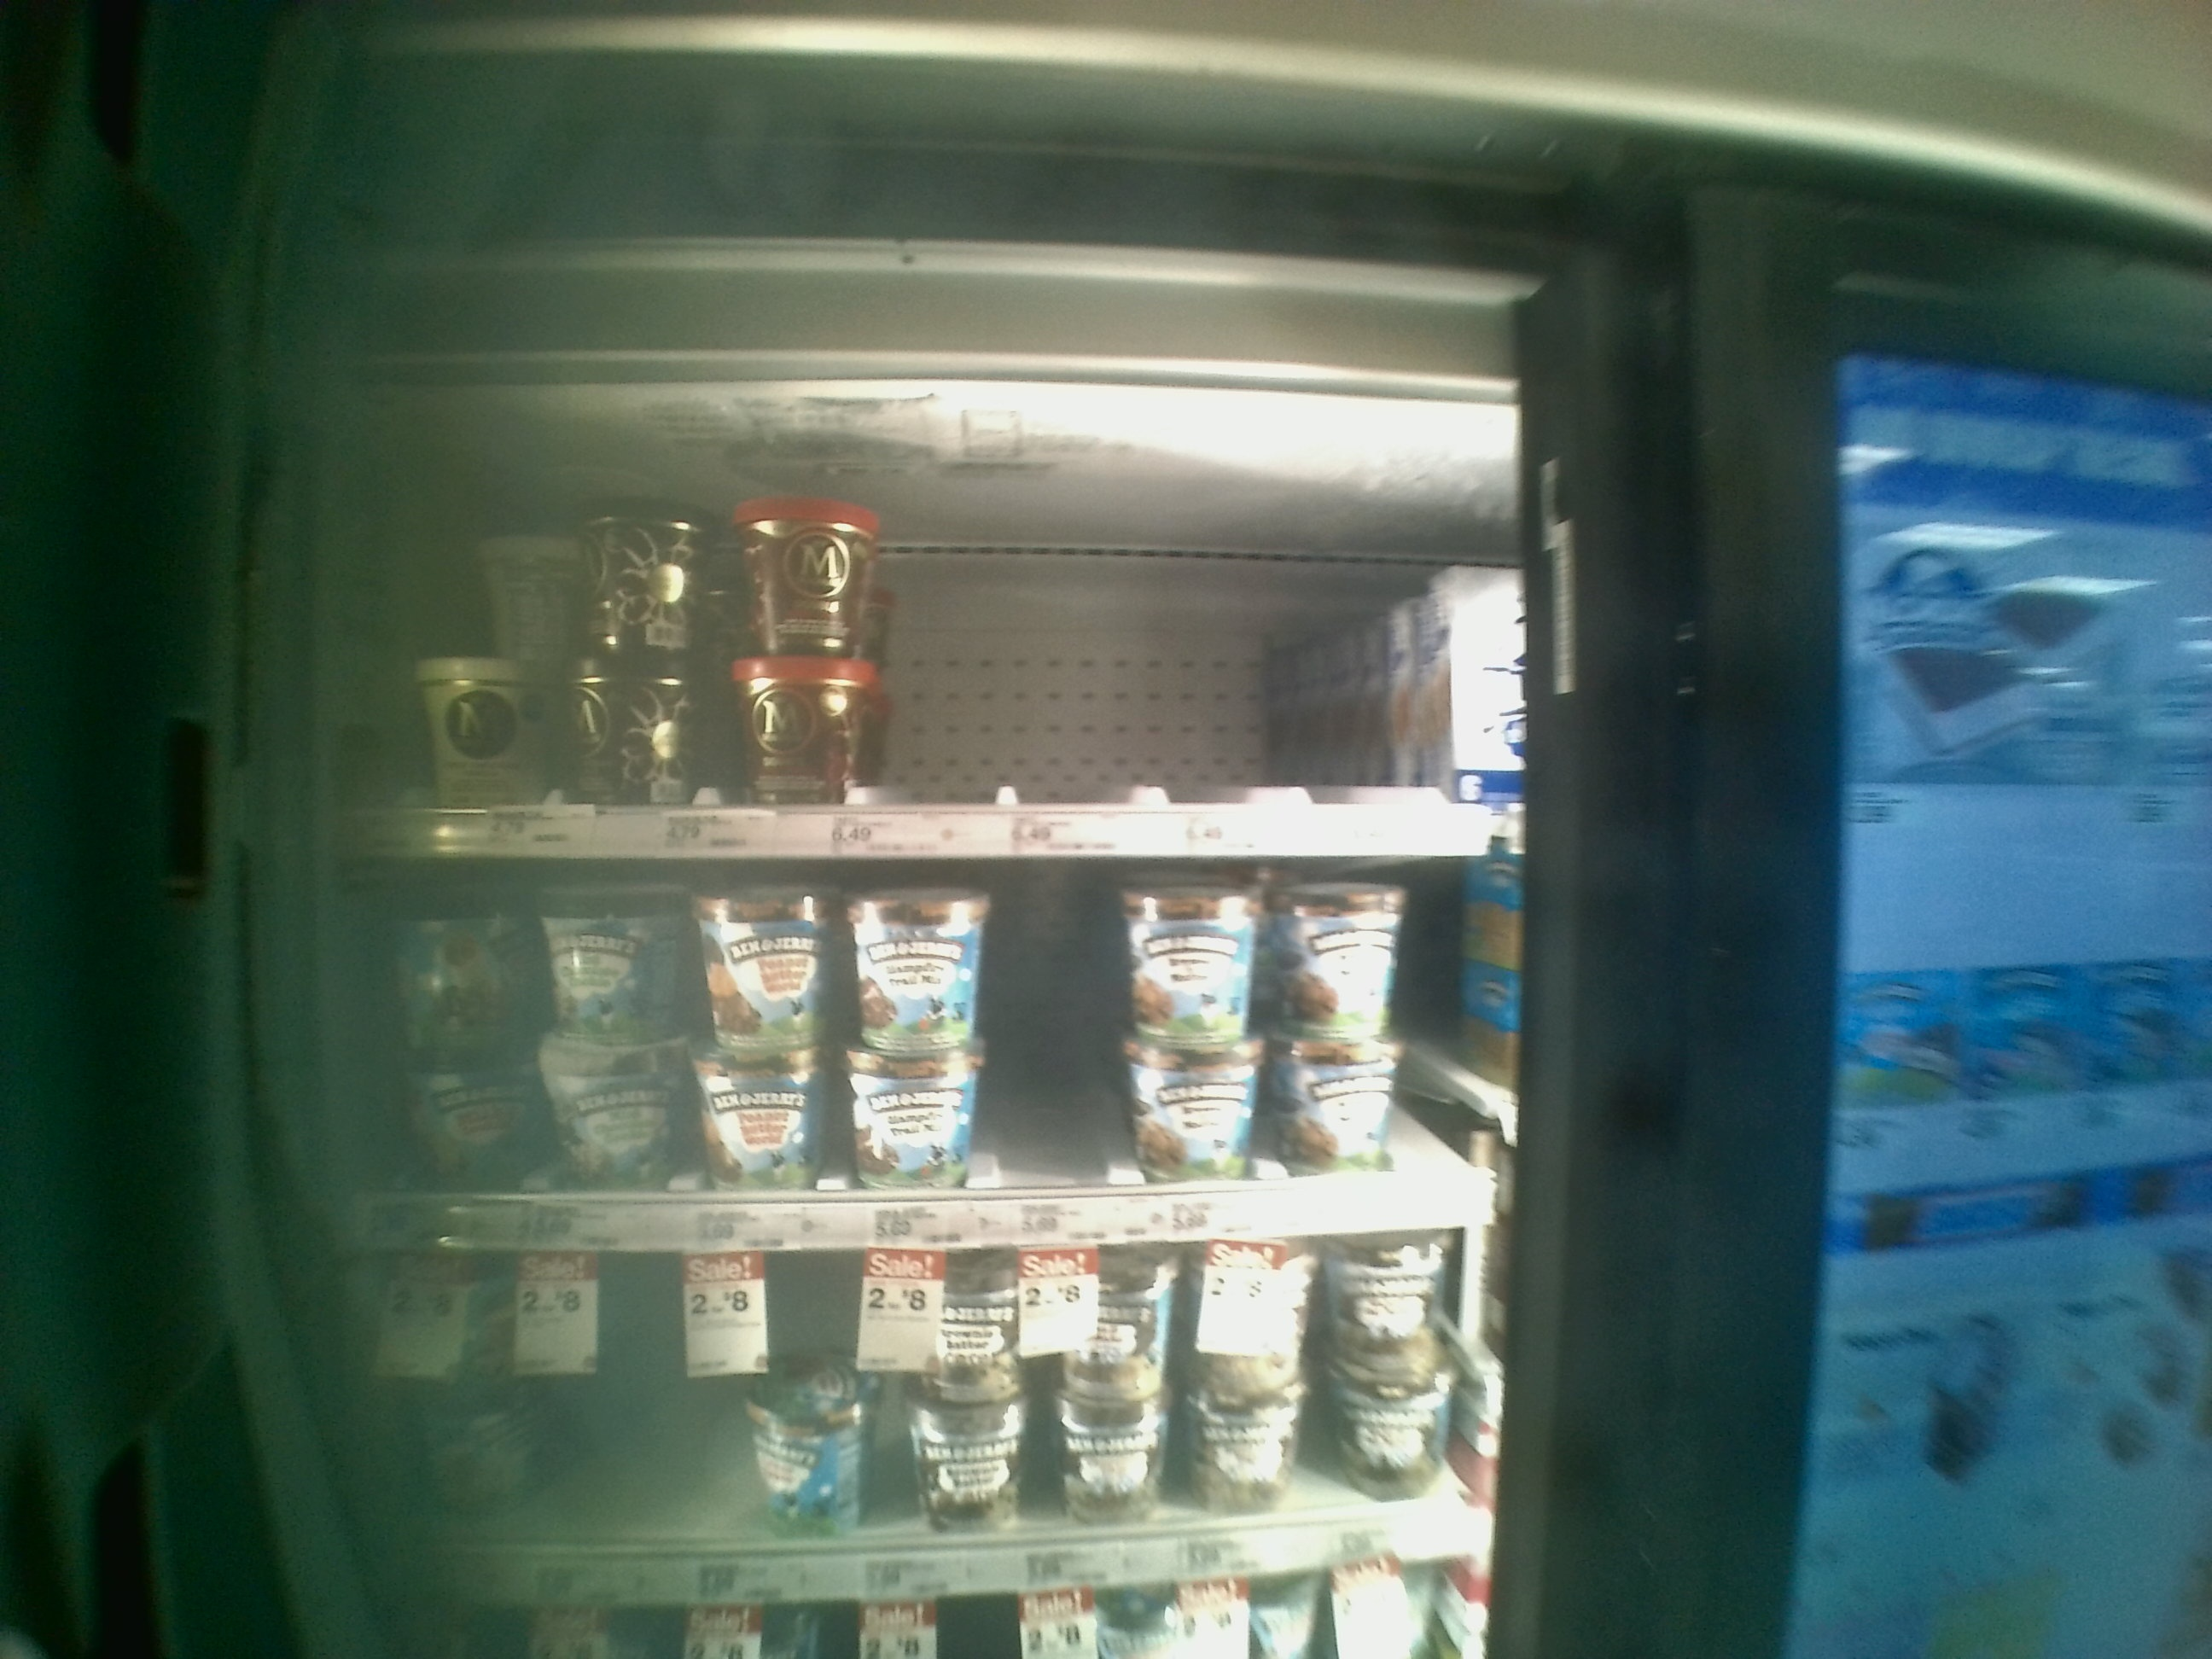shelf: (347, 430, 1505, 854), (336, 859, 1480, 1253), (336, 1251, 1489, 1619)
